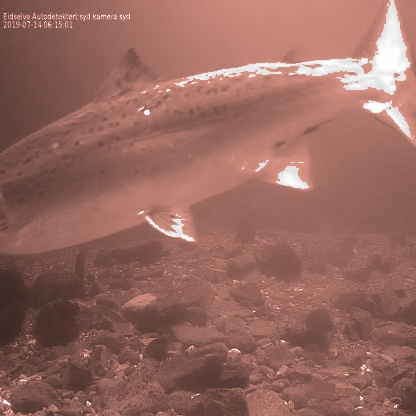salmon: (0, 0, 416, 258)
